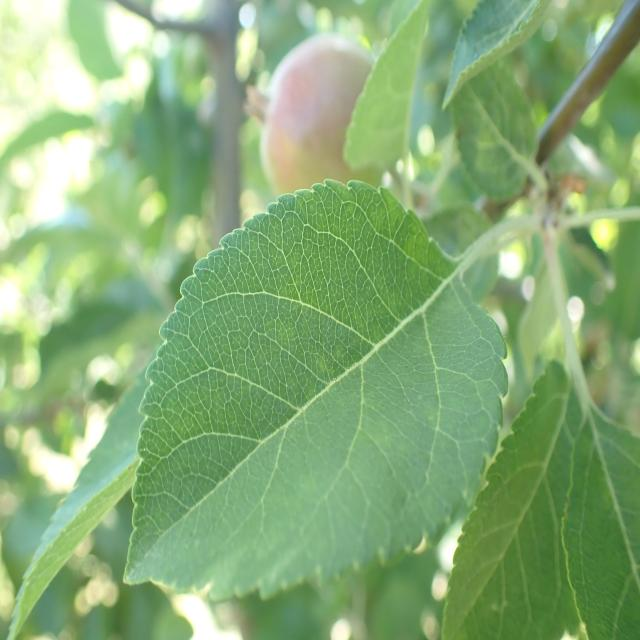healthy: (124, 177, 510, 603), (441, 357, 640, 640)
